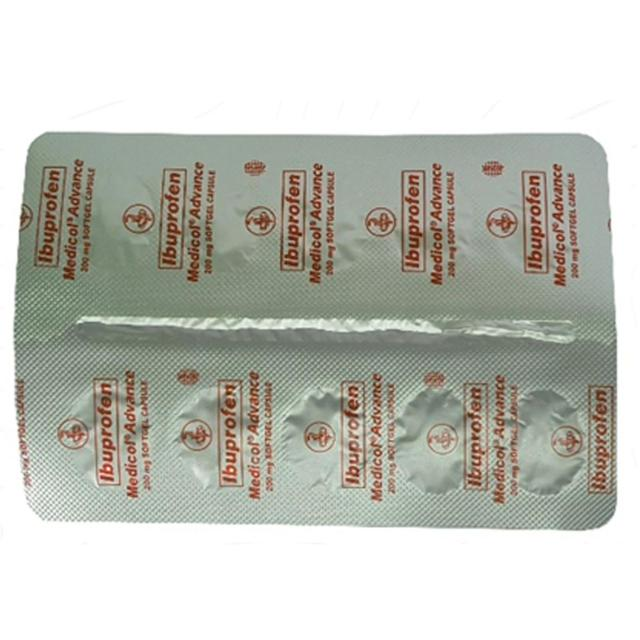blister: (13, 126, 628, 534)
